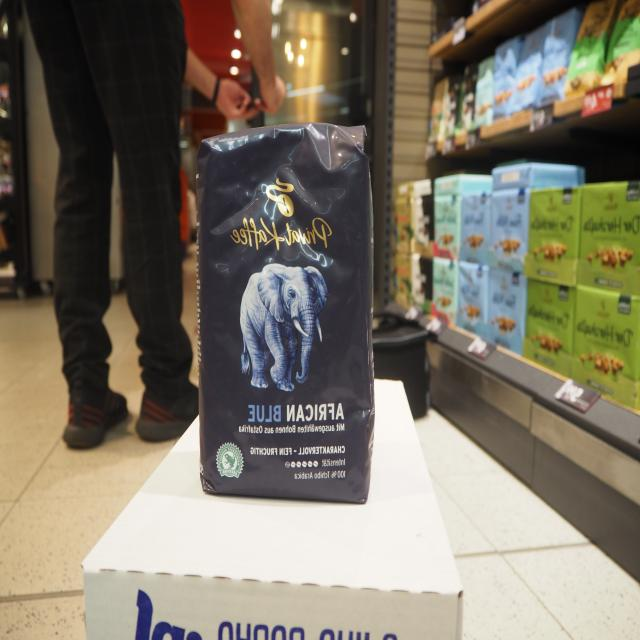AB Bohne: (195, 116, 375, 510)
